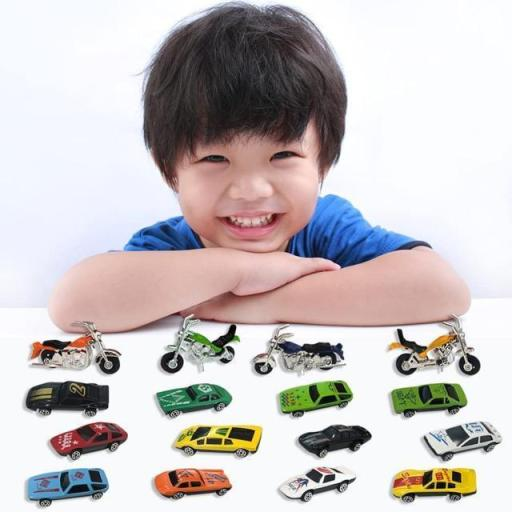baby: (51, 0, 473, 332)
